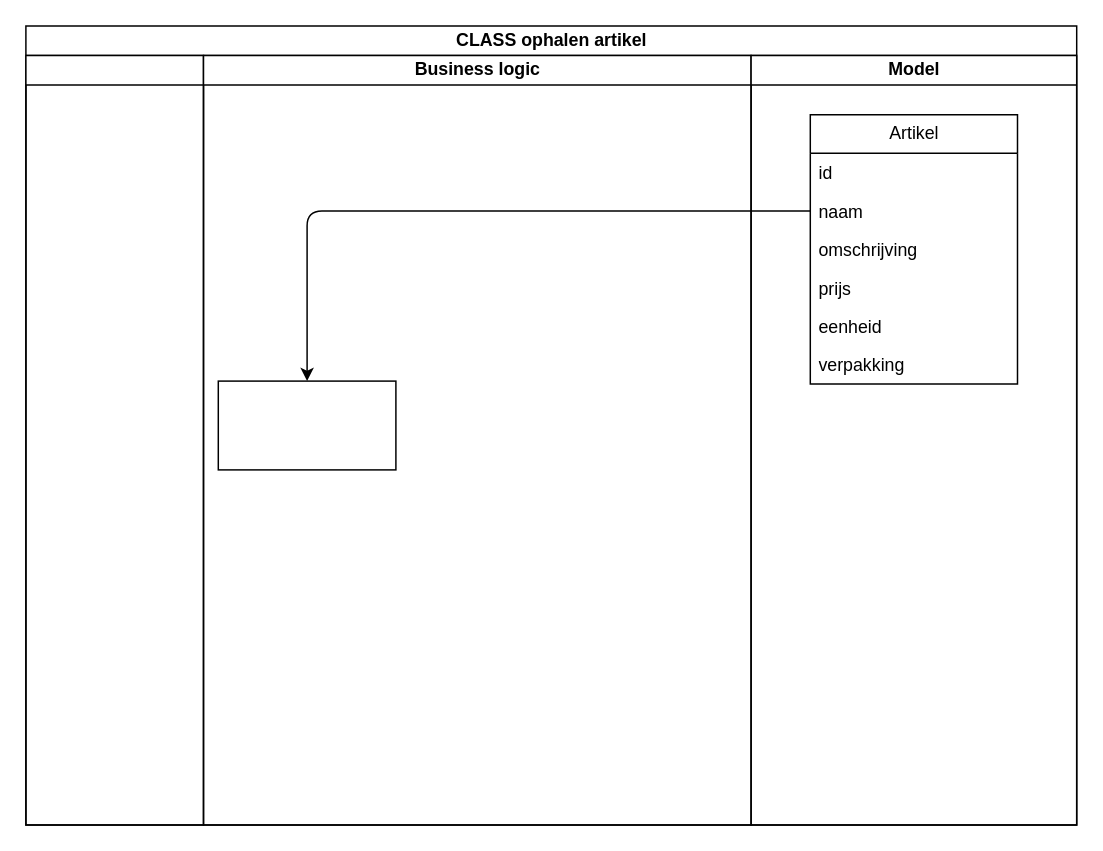
This 1103x851 diagram has some shape labels left out. The shapes that lost their labels are listed below. From the top down, each one's centre as x and y in pixels, then its label:
At (x=114, y=439): "Controller".
At (x=306, y=425): "ophalen artikel".
